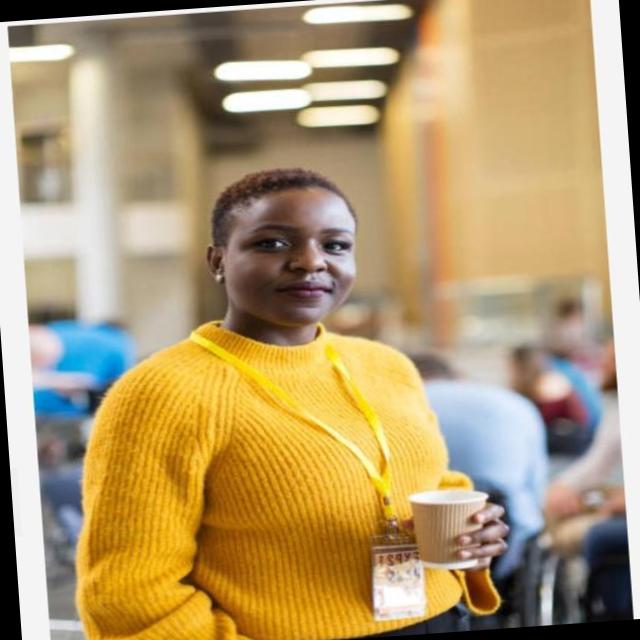id_card: (207, 302, 424, 635)
